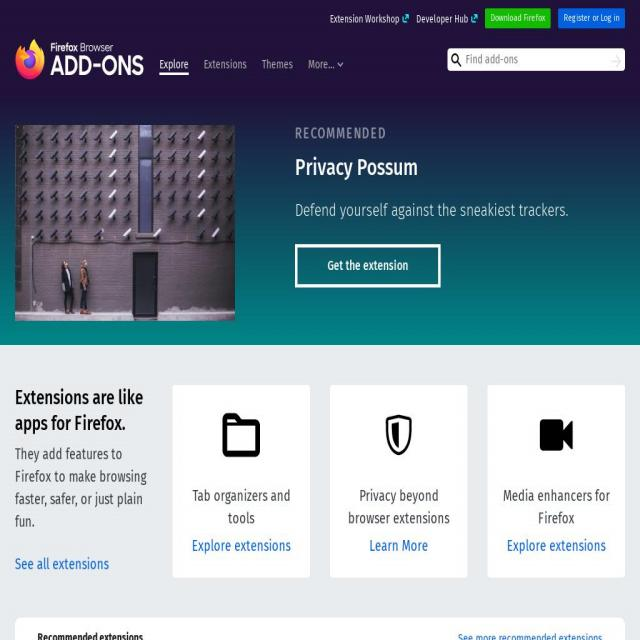content: (1, 96, 640, 346), (9, 382, 151, 580)
download: (485, 8, 551, 28)
login-option: (555, 5, 629, 33)
navigation-blocks: (170, 378, 631, 570)
navigation-links: (154, 53, 351, 77)
search: (445, 43, 627, 75)
sign-up-option: (556, 7, 626, 30), (556, 7, 624, 30)
